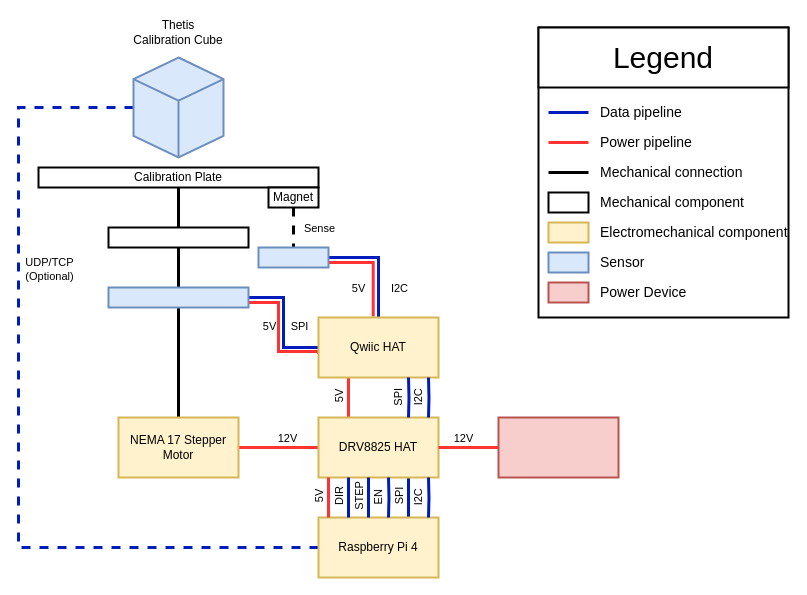
The diagram is 807 pixels wide and 595 high, and some of its shapes have lost their labels. Here are the shapes that lost their labels. From the top down, the box of each, then its label:
(107, 226, 249, 248): Lazy Susan Bearing
(257, 246, 329, 268): MLX90393
(107, 286, 249, 308): AMT22 Absolute Encoder
(497, 416, 619, 478): Power Supply
